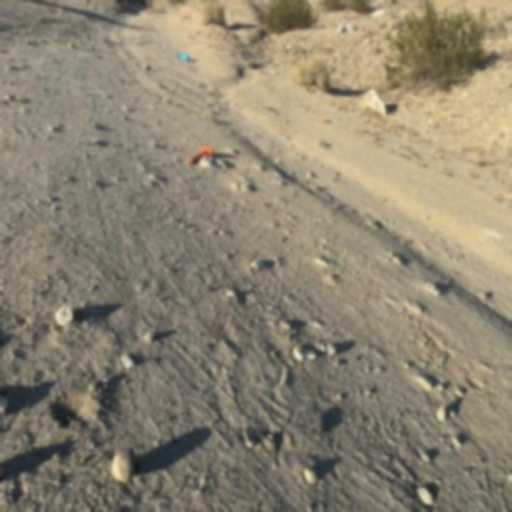bottle: (177, 49, 191, 62)
mallet: (186, 137, 215, 172)
